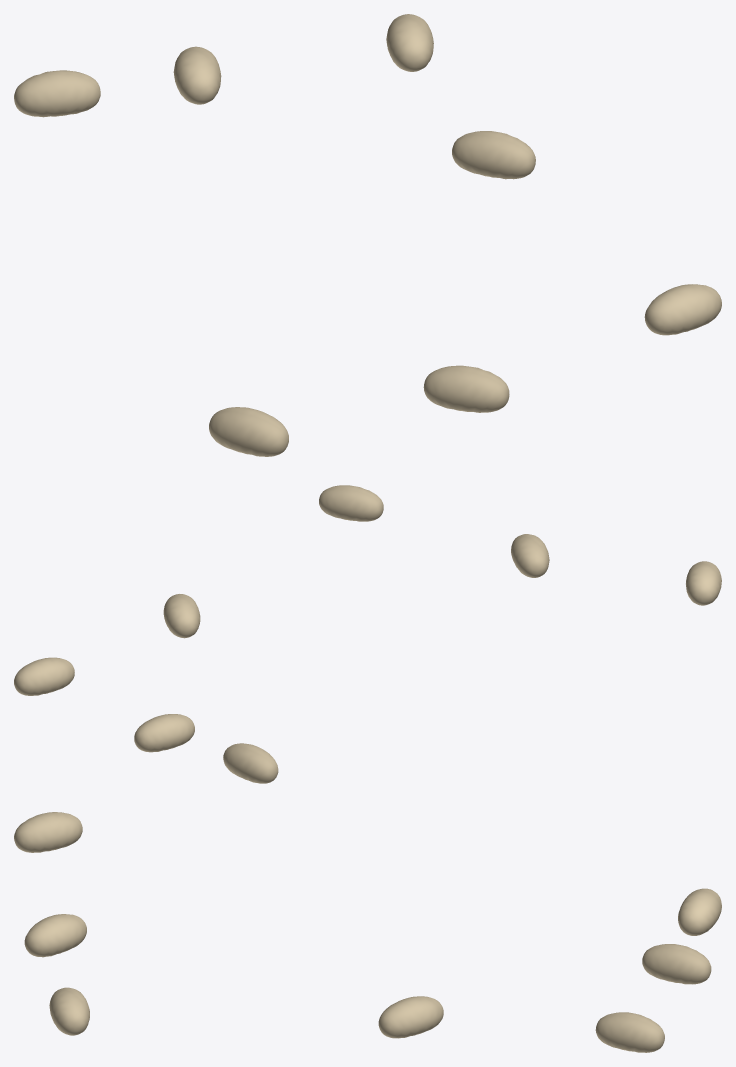
File: Mitokondria_Solo.glb
3 renders of one model, top to bottom at view 1: azimuth 30°, elevation 25°; view 2: azimuth 150°, elevation 25°; view 3: azimuth 270°, elevation 25°, orthographic. The views are drawn at different scales.
Visible parts, largest first — view 1: Cube.019, Cube.069, Cube.082, Cube.020, Cube.080, Cube.018, Cube.016; view 2: Cube.080, Cube.018, Cube.016, Cube.019, Cube.069, Cube.082, Cube.020; view 3: Cube.018, Cube.016, Cube.020, Cube.082, Cube.069, Cube.019, Cube.080.
Boxes of the visible parts, box(x1,y1,x2,y2) form: Cube.019: box(14, 70, 100, 117); Cube.069: box(423, 365, 509, 412); Cube.082: box(452, 131, 535, 179); Cube.020: box(209, 407, 288, 456); Cube.080: box(644, 284, 721, 335); Cube.018: box(386, 14, 433, 71); Cube.016: box(173, 46, 221, 104); Cube.080: box(319, 485, 383, 521); Cube.018: box(14, 657, 74, 695); Cube.016: box(134, 714, 194, 752); Cube.019: box(223, 743, 278, 783); Cube.069: box(511, 534, 549, 577); Cube.082: box(163, 594, 200, 638); Cube.020: box(686, 561, 721, 605); Cube.018: box(595, 1012, 664, 1052); Cube.016: box(642, 944, 711, 984); Cube.020: box(14, 812, 82, 852); Cube.082: box(378, 996, 443, 1038); Cube.069: box(24, 914, 86, 957); Cube.019: box(678, 888, 721, 935); Cube.080: box(49, 987, 89, 1035).
Size of the model in its own units: 1.4 by 0.1547 by 1.83.
